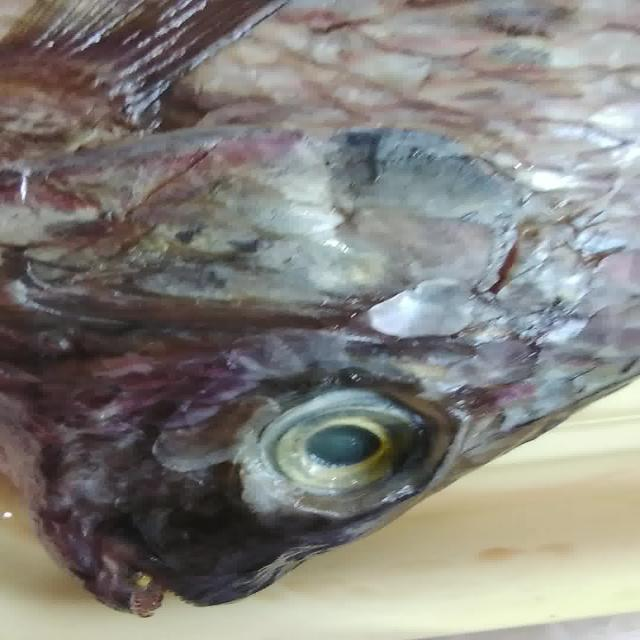Non-Fresh: (18, 13, 630, 368), (245, 382, 464, 527)
